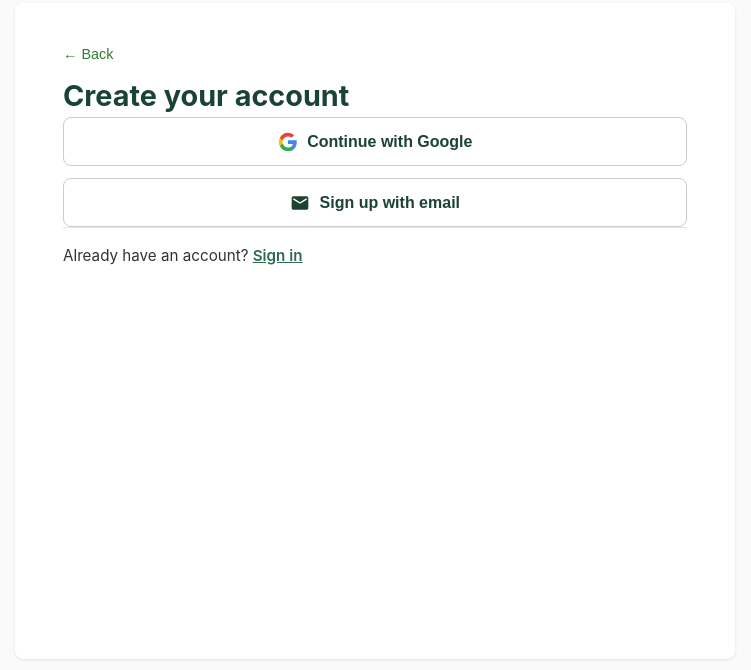
it: SignupPage › shows the server error and stays on the form
Click the button "Sign up with email" at (375, 203), box [63, 178, 687, 227]
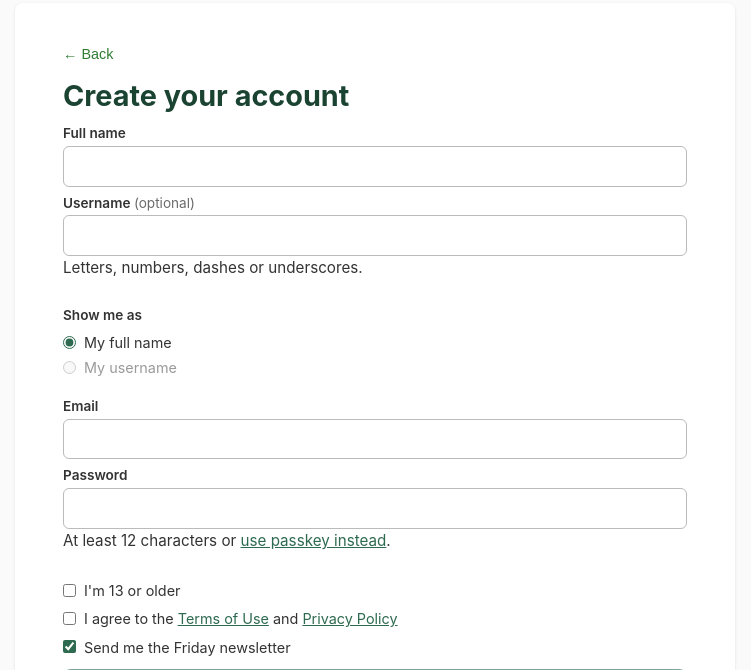
Type "Jane" into the field labelled "Full name" at (375, 166), box [63, 146, 687, 187]
Type "jane@example.com" into the field labelled "Email" at (375, 439), box [63, 418, 687, 459]
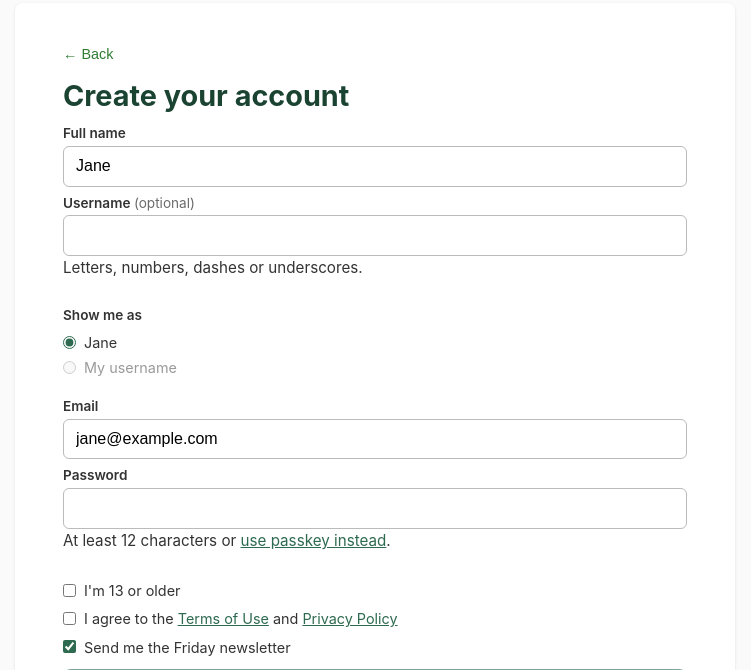
Type "correct horse battery staple" into the password field labelled "Password" at (375, 508), box [63, 488, 687, 529]
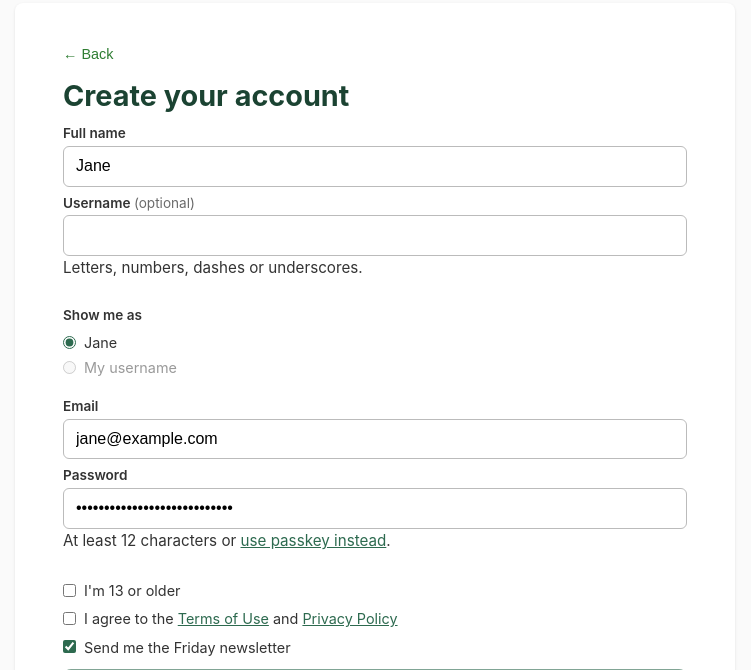
Click the checkbox labelled "I'm 13 or older" at (70, 590), box [63, 584, 76, 597]
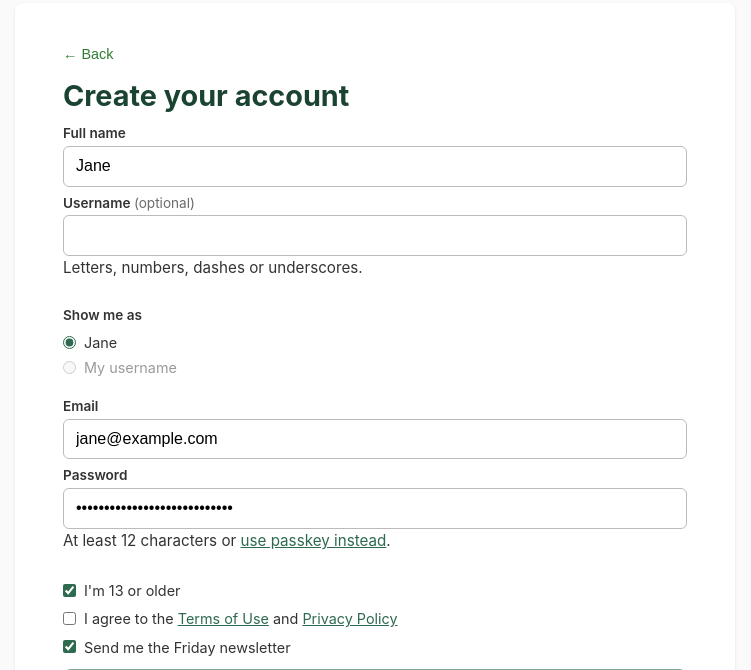
Click the checkbox labelled "I agree to the Terms of Use and Privacy Policy" at (70, 618), box [63, 612, 76, 625]
(page scrolled)
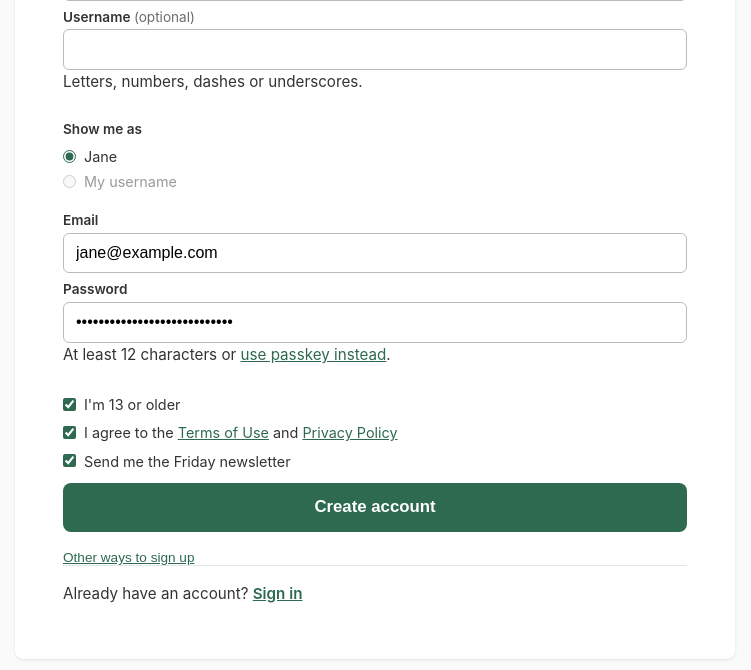
Click the button "Create account" at (375, 508), box [63, 483, 687, 532]
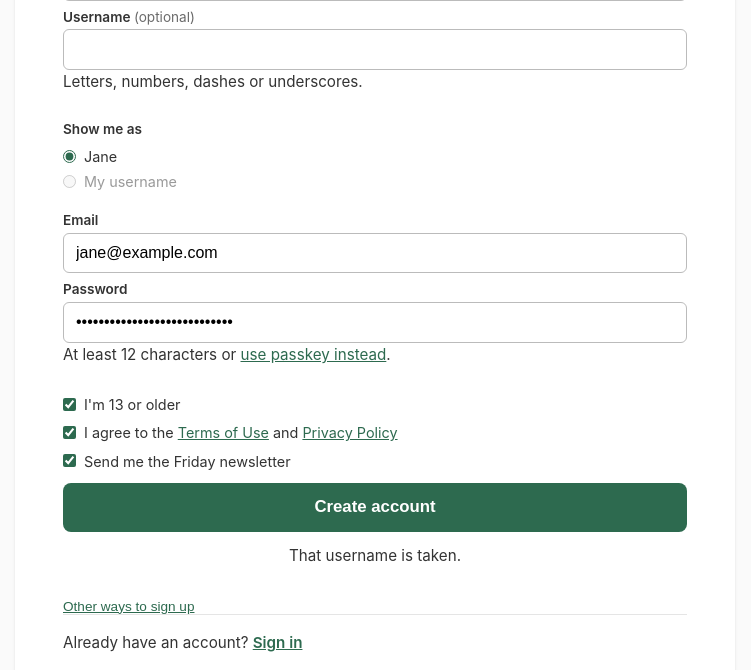
Check: the message reads "That username is taken.", box [289, 546, 461, 565]
